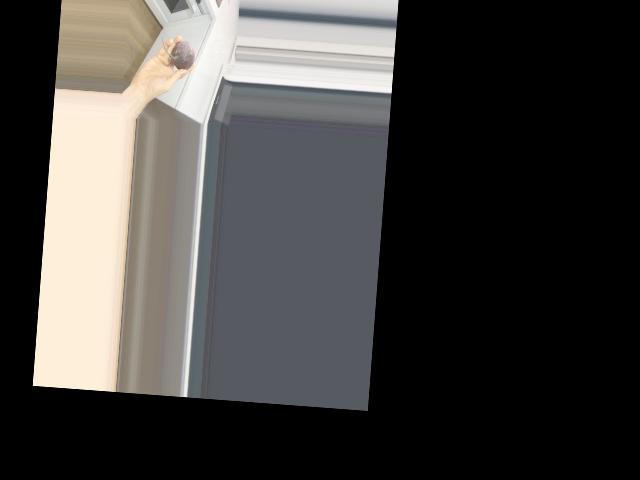beet: (159, 36, 196, 70)
